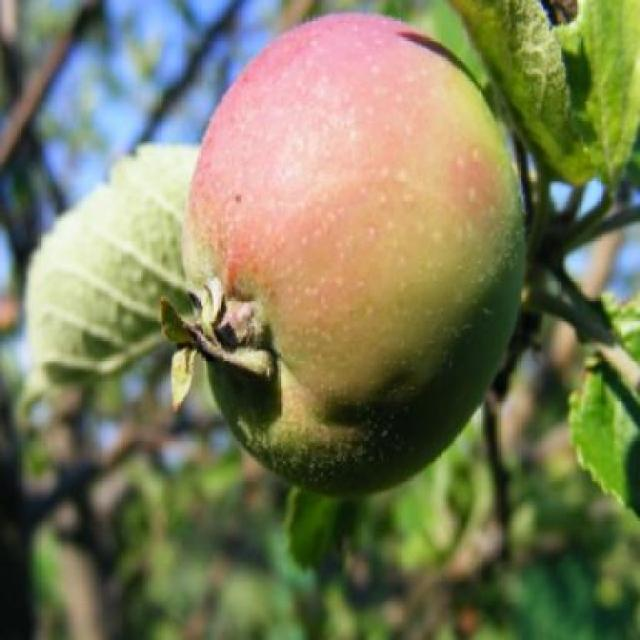Peach: (177, 12, 526, 491)
